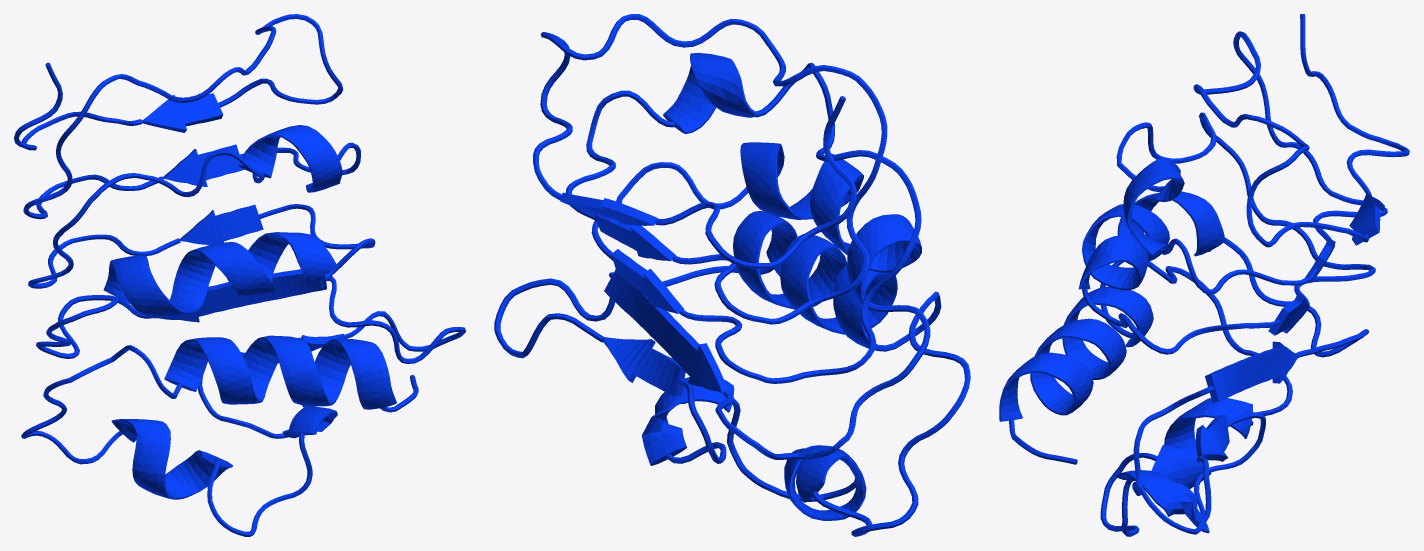
File: lrr.obj
3 renders of one model, left to right at view 1: azimuth 30°, elevation 25°; view 2: azimuth 150°, elevation 25°; view 3: azimuth 270°, elevation 25°, orthographic. The views are drawn at different scales.
Bounding box in the file's own units: 34.75 × 35.88 × 29.01.
